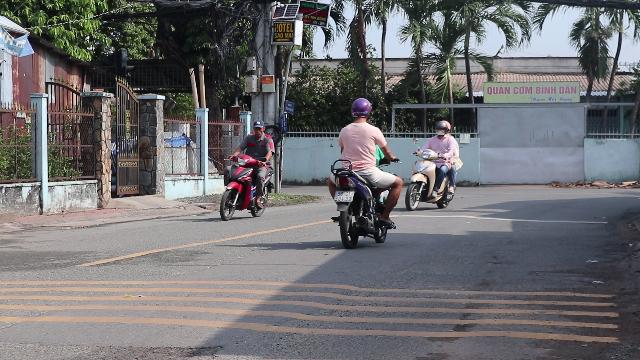helmet: (350, 97, 372, 121)
licenseplate: (334, 190, 354, 201)
motorcyclist: (324, 97, 400, 247), (217, 119, 275, 221)
nohelmet: (252, 120, 264, 134)
